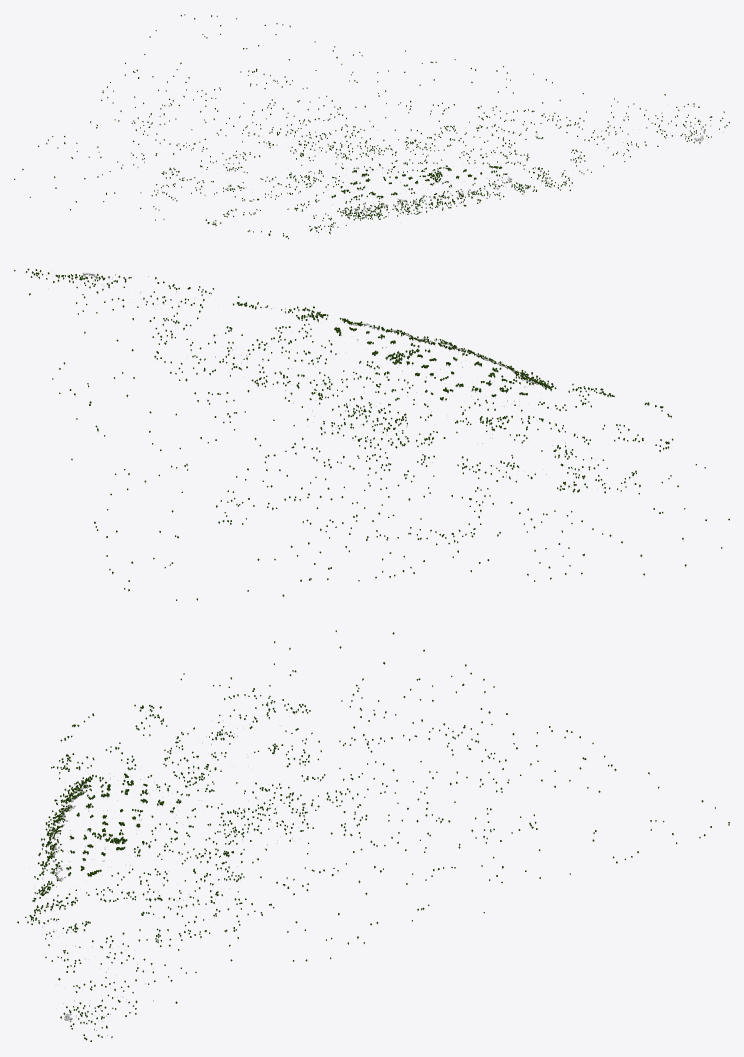
The model's file is SingleVegetation.fbx.
The picture shows the model from 3 angles, top to bottom: view 1: azimuth 30°, elevation 25°; view 2: azimuth 150°, elevation 25°; view 3: azimuth 270°, elevation 25°; orthographic projection. The views are drawn at different scales.
Visible parts, largest first — view 1: SingleLowTres, SingleCity.001; view 2: SingleLowTres, SingleCity.001; view 3: SingleLowTres, SingleCity.001.
Part boxes in pixels (left/top/right/bottom): SingleLowTres: left=14, top=14, right=729, bottom=239; SingleCity.001: left=331, top=165, right=507, bottom=203; SingleLowTres: left=14, top=268, right=729, bottom=600; SingleCity.001: left=334, top=321, right=533, bottom=400; SingleLowTres: left=17, top=630, right=729, bottom=1041; SingleCity.001: left=66, top=773, right=181, bottom=876.
Size of the model in its own units: 309519 by 10116 by 232591.
